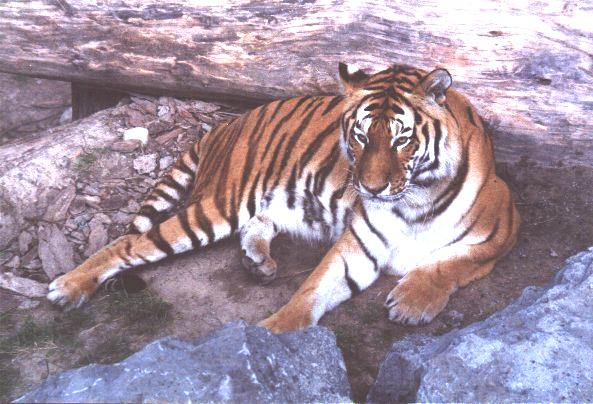Tigre: (186, 82, 500, 309)
